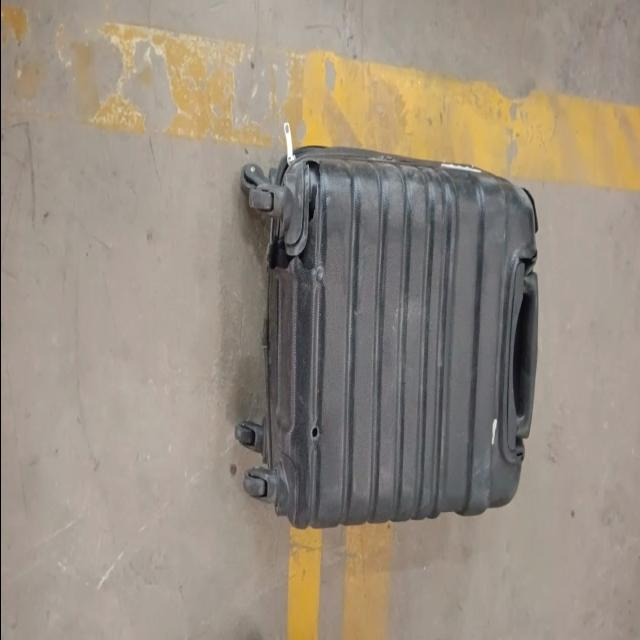Damage-bag: (268, 147, 330, 282), (531, 196, 538, 231), (310, 424, 319, 442)
